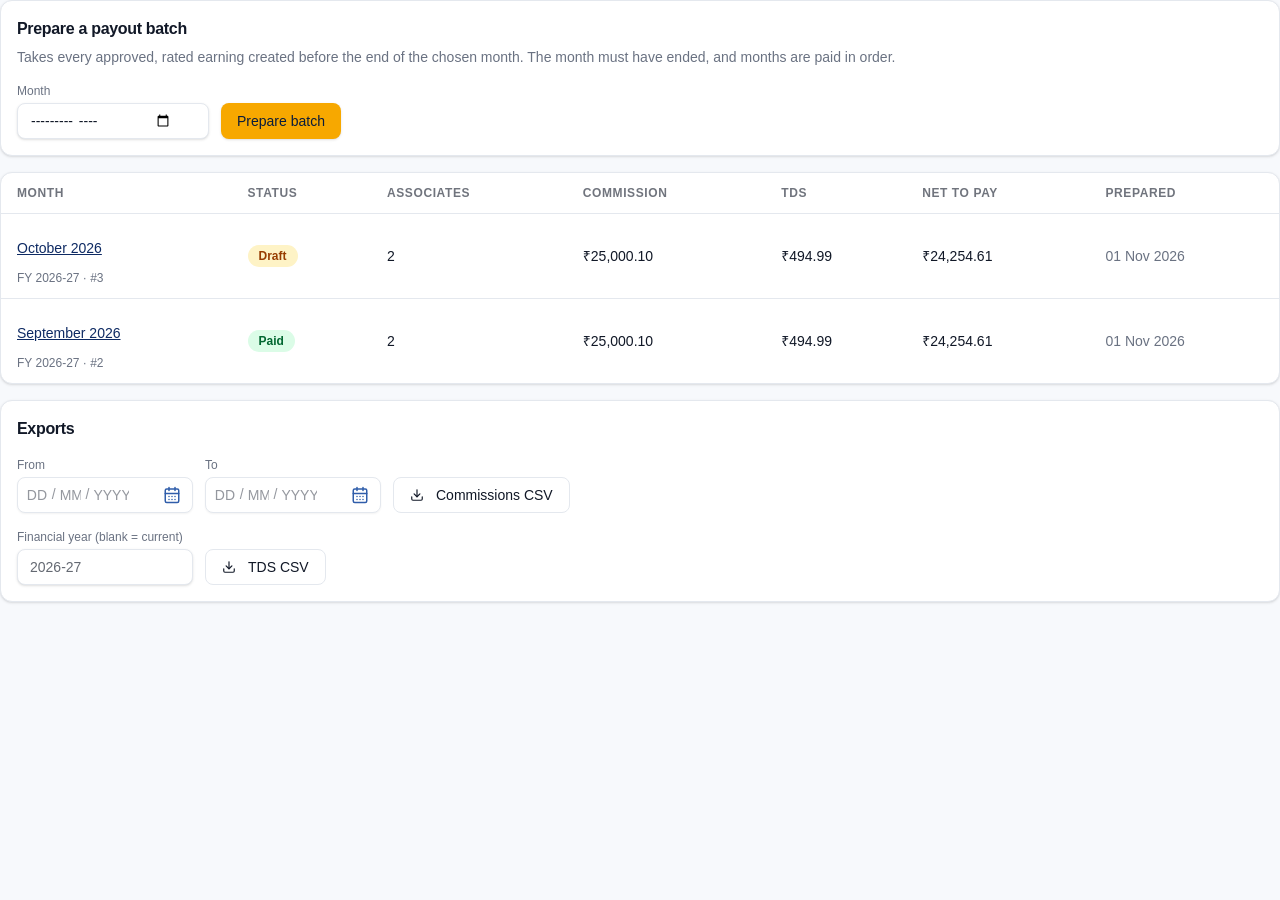
Test: Payout batches (E9) › explains placeholder_rates and links to the rate schedules
This screenshot has width=1280, height=900.
Type "2026-10" into the field labelled "Month".
click(113, 121); type("2026-10")  # box [17,103,209,139]
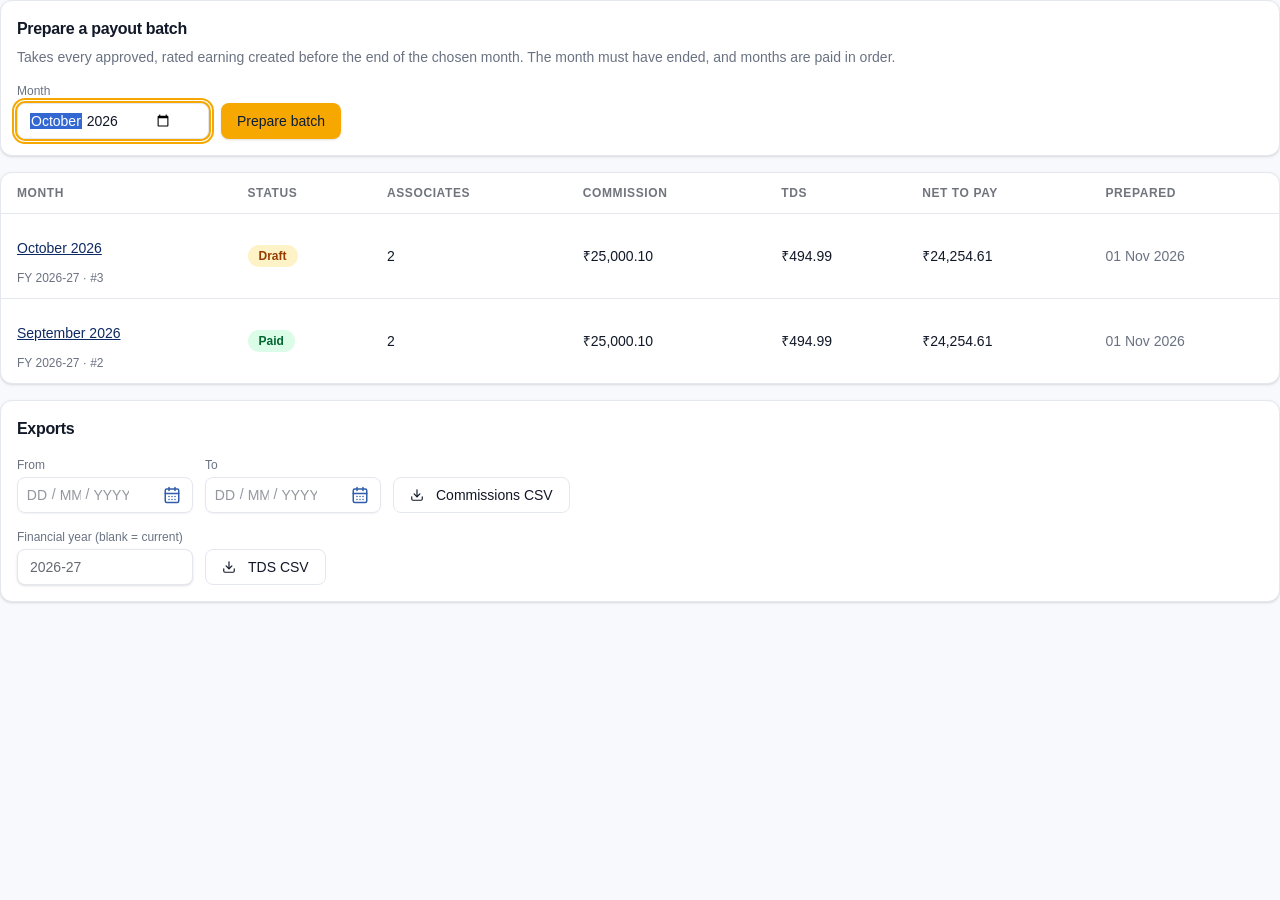
Click the button "Prepare batch".
click(281, 121)  # box [221,103,341,139]
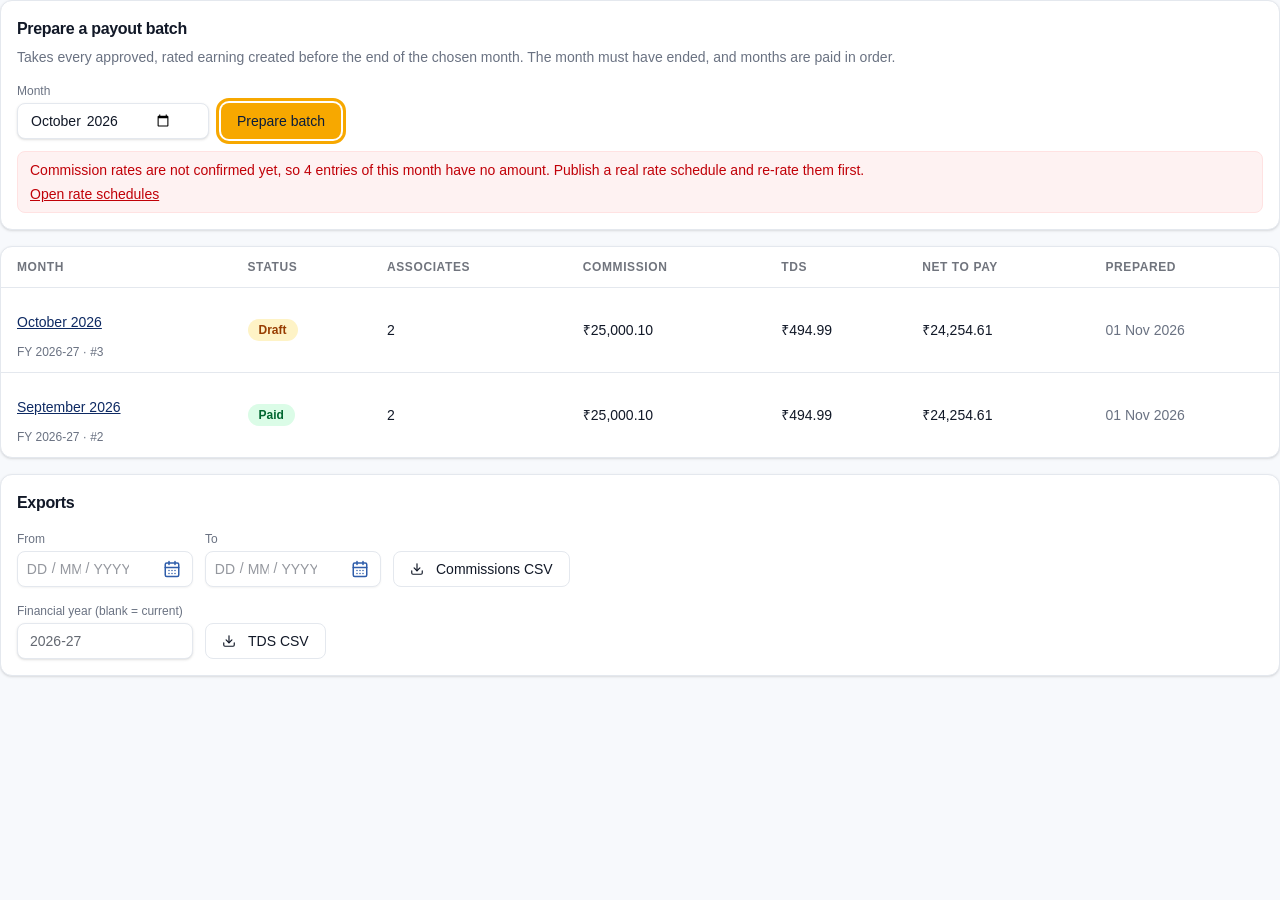
Expected: the message with test id "batch-error" shows "4 entries of this month have no amount", [30,162,864,178]
